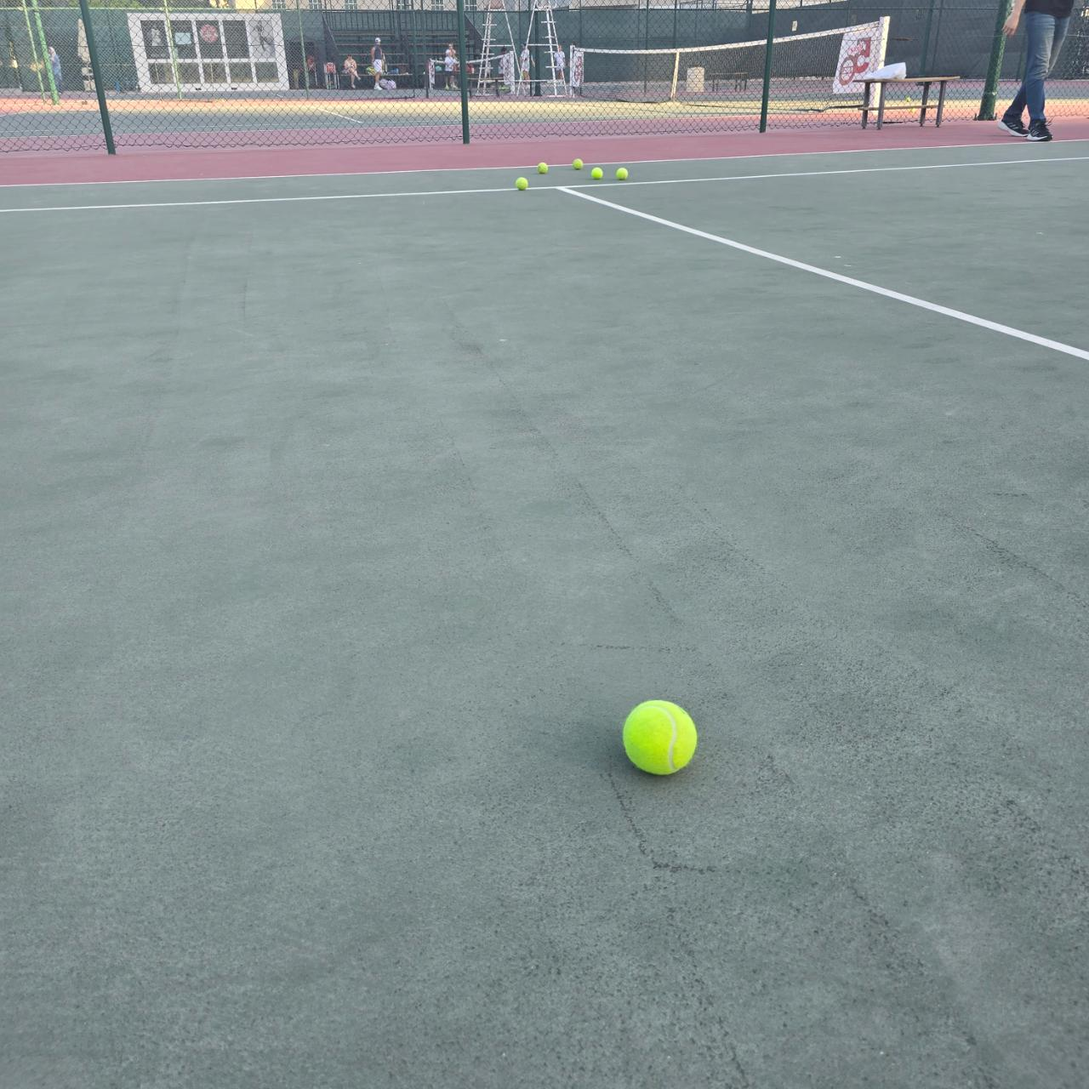tennis-ball: (622, 696, 700, 776), (616, 167, 629, 180), (516, 176, 528, 190), (591, 167, 603, 180), (537, 162, 548, 174), (573, 158, 583, 170)
